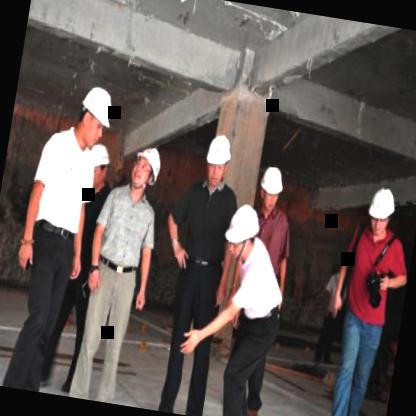helmet: (70, 80, 118, 150), (219, 203, 261, 266), (364, 179, 401, 236), (200, 131, 237, 187), (254, 158, 288, 216), (125, 142, 162, 195), (84, 144, 113, 192)
